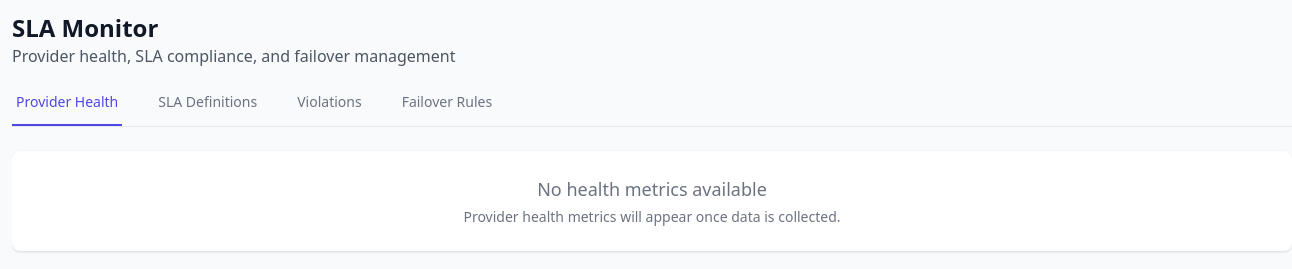
SLAMonitoring › switches to Violations tab and shows empty state
The image size is (1292, 269).
Click the button "Violations". click: (329, 109)
box: left=293, top=92, right=366, bottom=126
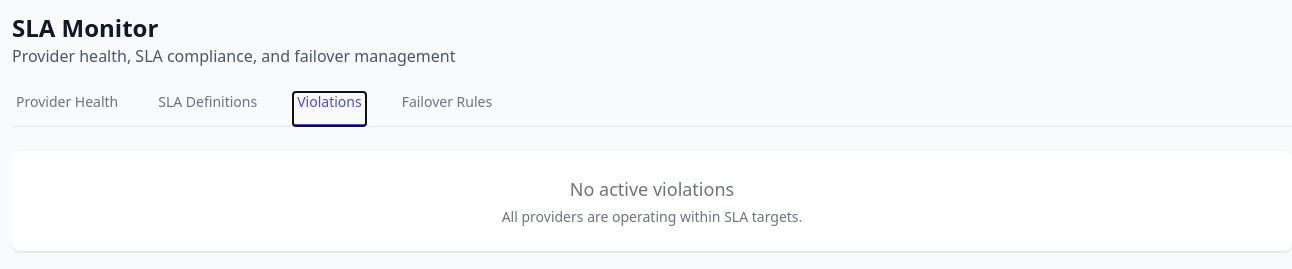
Expected: the text "No active violations" is shown, left=570, top=177, right=734, bottom=201
Expected: the text "All providers are operating within SLA targets." is shown, left=502, top=207, right=802, bottom=226
